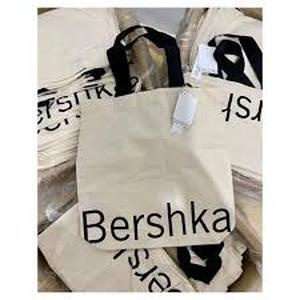bershka: (192, 92, 270, 300)
